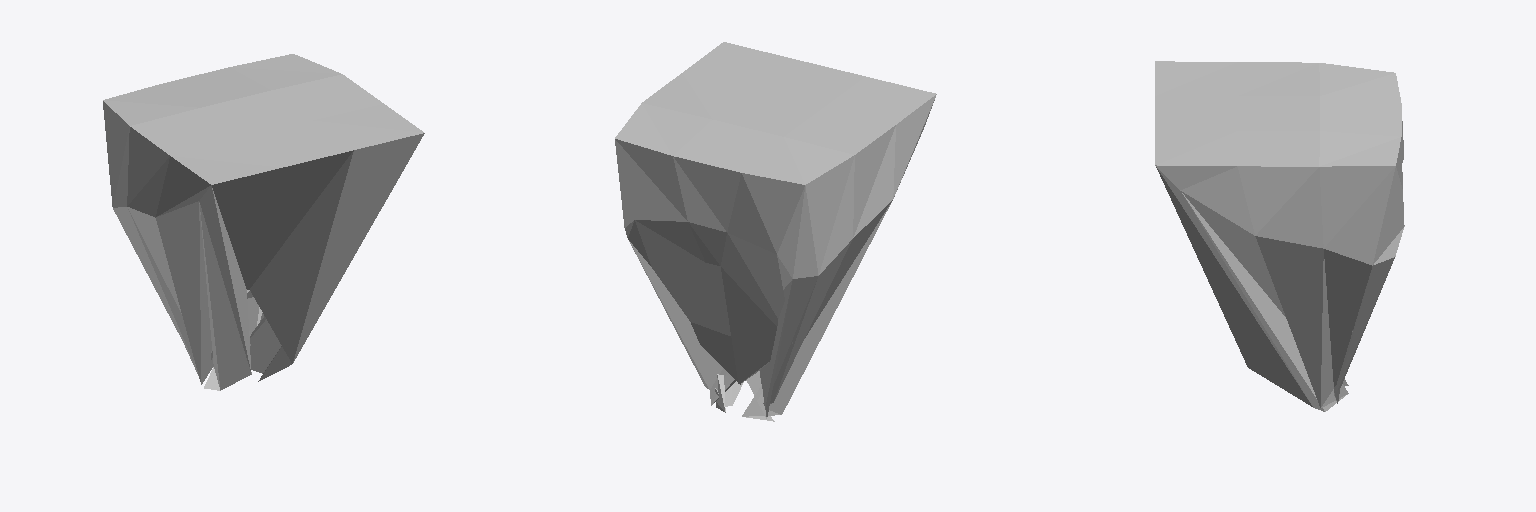
File: stone0019.obj
The picture shows the model from 3 angles: view 1: azimuth 30°, elevation 25°; view 2: azimuth 150°, elevation 25°; view 3: azimuth 270°, elevation 25°; orthographic projection.
Visible parts, largest first — view 1: Landscape.006; view 2: Landscape.006; view 3: Landscape.006.
Part boxes in pixels (x1,y1,x2,y2): Landscape.006: (103,54,424,390); Landscape.006: (615,42,936,421); Landscape.006: (1155,61,1404,411).
Size of the model in its own units: 0.4531 by 0.5471 by 0.4332.